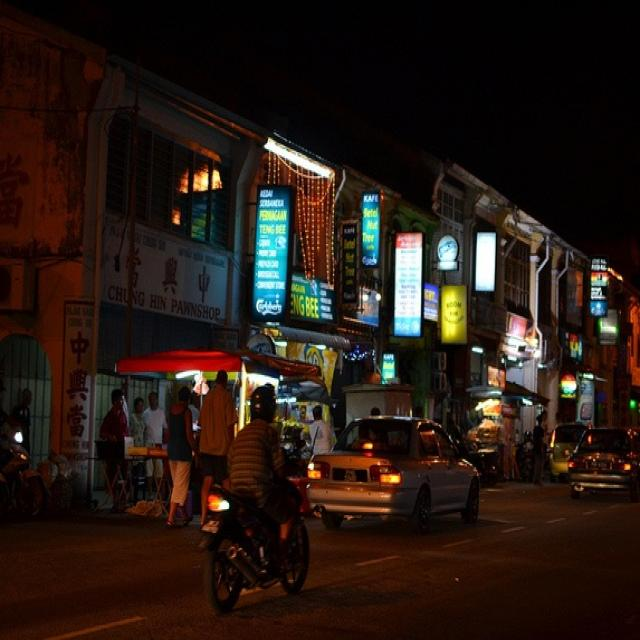Motorbike: (198, 473, 338, 615)
People: (227, 369, 295, 527), (158, 368, 197, 532), (100, 362, 131, 516), (19, 378, 55, 504), (305, 386, 335, 477), (136, 386, 161, 488), (198, 358, 218, 471)
car: (301, 407, 486, 533), (555, 423, 640, 527), (539, 396, 591, 475)
